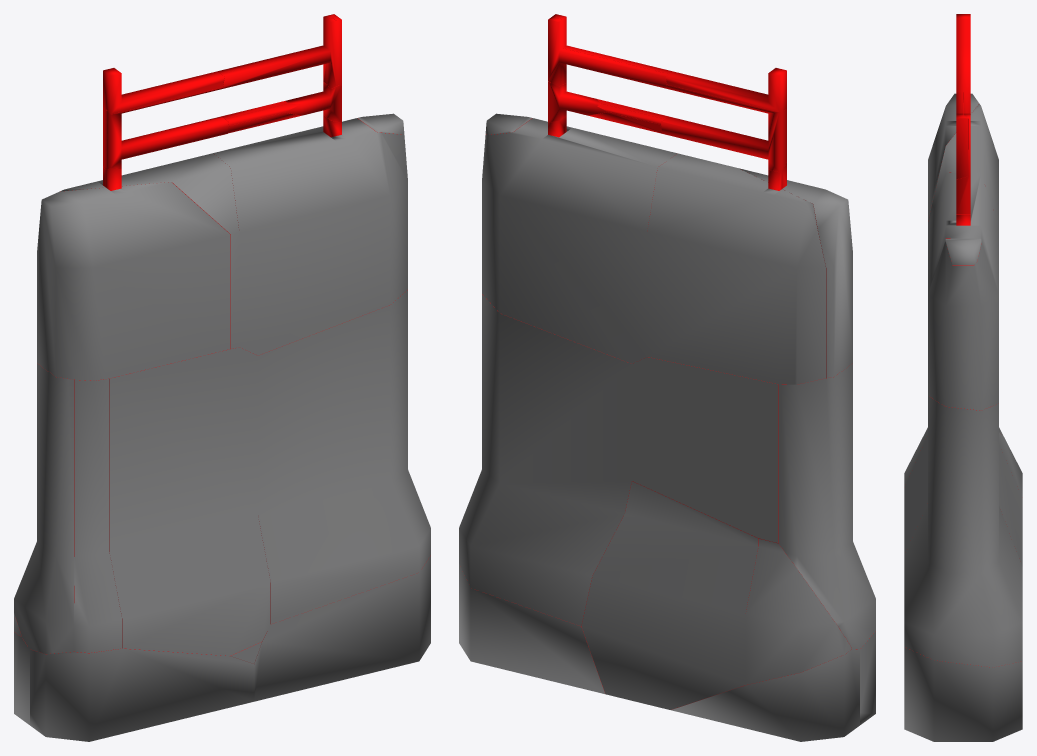
The model's file is Wall Destroy.fbx.
3 renders of one model, left to right at view 1: azimuth 30°, elevation 25°; view 2: azimuth 150°, elevation 25°; view 3: azimuth 270°, elevation 25°, orthographic. The views are drawn at different scales.
Visible parts, largest first — view 1: barricade.027_cell.007, barricade.027_cell.005, barricade.027_cell.018, barricade.027_cell.003, barricade.027_cell.014, barricade.027_cell.002, barricade.027_cell.010, barricade.027_cell.009, barricade.027_cell.013, barricade.027_cell.015, barricade.027_cell.001, barricade.027_cell.017 (+4 smaller); view 2: barricade.027_cell.005, barricade.027_cell.013, barricade.027_cell.018, barricade.027_cell, barricade.027_cell.007, barricade.027_cell.010, barricade.027_cell.012, barricade.027_cell.004, barricade.027_cell.002, barricade.027_cell.003, barricade.027_cell.015, barricade.027_cell.016 (+5 smaller); view 3: barricade.027_cell.005, barricade.027_cell.018, barricade.027_cell.002, barricade.027_cell.013, barricade.027_cell.007, barricade.027_cell, barricade.027_cell.003, barricade.027_cell.001, barricade.027_cell.019, barricade.027_cell.006, barricade.027_cell.011, barricade.027_cell.012 (+2 smaller).
Boxes of the visible parts, x1,y1,x2,y2 form: barricade.027_cell.007: [109, 347, 270, 655]; barricade.027_cell.005: [258, 290, 430, 623]; barricade.027_cell.018: [213, 115, 407, 355]; barricade.027_cell.003: [37, 168, 230, 380]; barricade.027_cell.014: [30, 648, 254, 741]; barricade.027_cell.002: [254, 555, 430, 701]; barricade.027_cell.010: [14, 363, 74, 653]; barricade.027_cell.009: [74, 378, 121, 652]; barricade.027_cell.013: [60, 153, 239, 348]; barricade.027_cell.015: [103, 87, 228, 169]; barricade.027_cell.001: [103, 68, 224, 114]; barricade.027_cell.017: [221, 18, 336, 88]; barricade.027_cell.005: [459, 294, 631, 626]; barricade.027_cell.013: [647, 153, 825, 384]; barricade.027_cell.018: [482, 115, 677, 363]; barricade.027_cell: [581, 481, 758, 709]; barricade.027_cell.007: [632, 357, 778, 543]; barricade.027_cell.010: [778, 363, 875, 649]; barricade.027_cell.012: [745, 539, 851, 684]; barricade.027_cell.004: [671, 649, 859, 741]; barricade.027_cell.002: [459, 563, 605, 693]; barricade.027_cell.003: [738, 163, 852, 377]; barricade.027_cell.015: [660, 84, 786, 172]; barricade.027_cell.016: [548, 18, 668, 88]; barricade.027_cell.005: [904, 396, 1022, 667]; barricade.027_cell.018: [928, 172, 998, 410]; barricade.027_cell.002: [904, 647, 1022, 741]; barricade.027_cell.013: [928, 103, 998, 226]; barricade.027_cell.007: [904, 435, 927, 554]; barricade.027_cell: [999, 445, 1022, 566]; barricade.027_cell.003: [928, 93, 979, 221]; barricade.027_cell.001: [956, 14, 970, 99]; barricade.027_cell.019: [945, 238, 981, 265]; barricade.027_cell.006: [956, 116, 968, 179]; barricade.027_cell.011: [956, 176, 970, 214]; barricade.027_cell.012: [999, 432, 1022, 497].
Bounding box in the file's own units: 700 × 1100 × 200.
